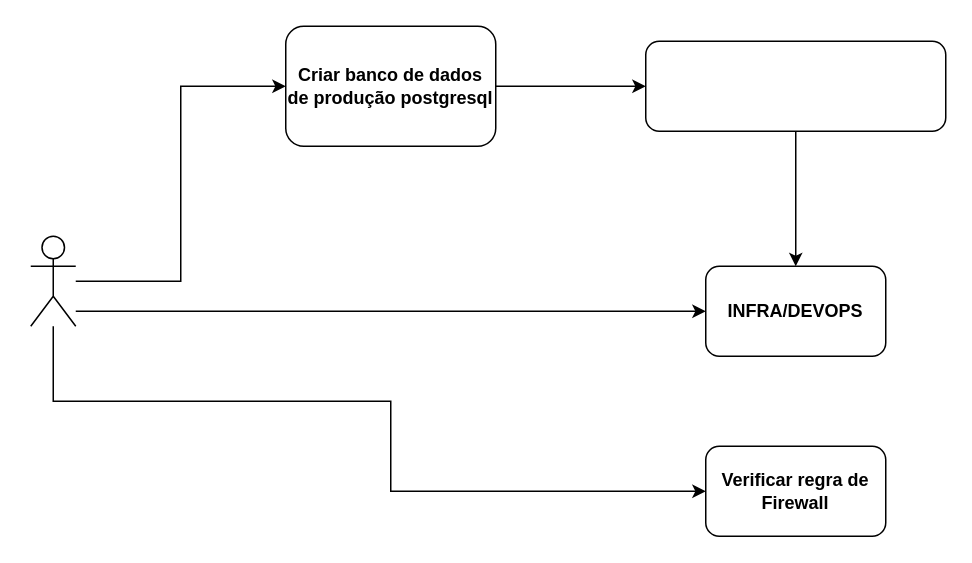
The diagram is 972 pixels wide and 563 high, and some of its shapes have lost their labels. The centre of each missing label's shape, as x and y in pixels:
"Criar e Informar usuario e senha Datasource para SISALFA e informar INFRA" belongs at point 795,85.
"INFRA" belongs at point 52,280.
